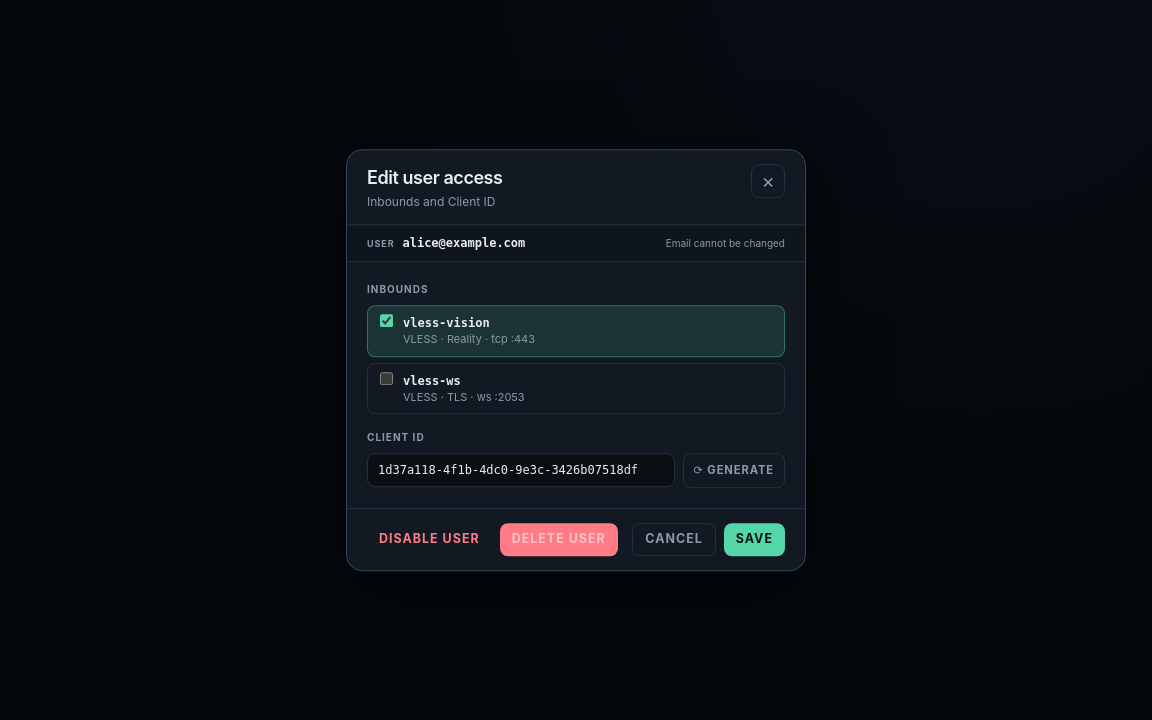
Test: edit user dialog › shows the failure banner when the store succeeded but the apply failed
Click the button "Save" at x=754, y=539, box [724,523,785,556]
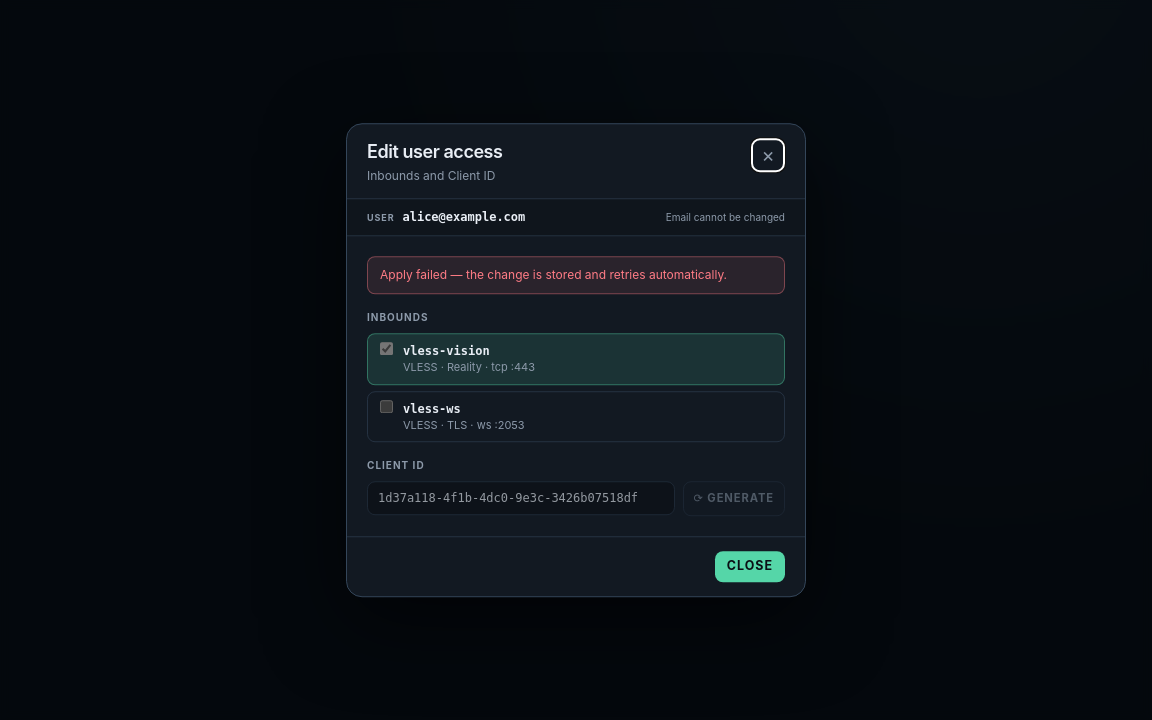
Expected: the message reads "Apply failed — the change is stored and retries automatically.", [380,267,727,282]
Expected: the button "Save" is gone
